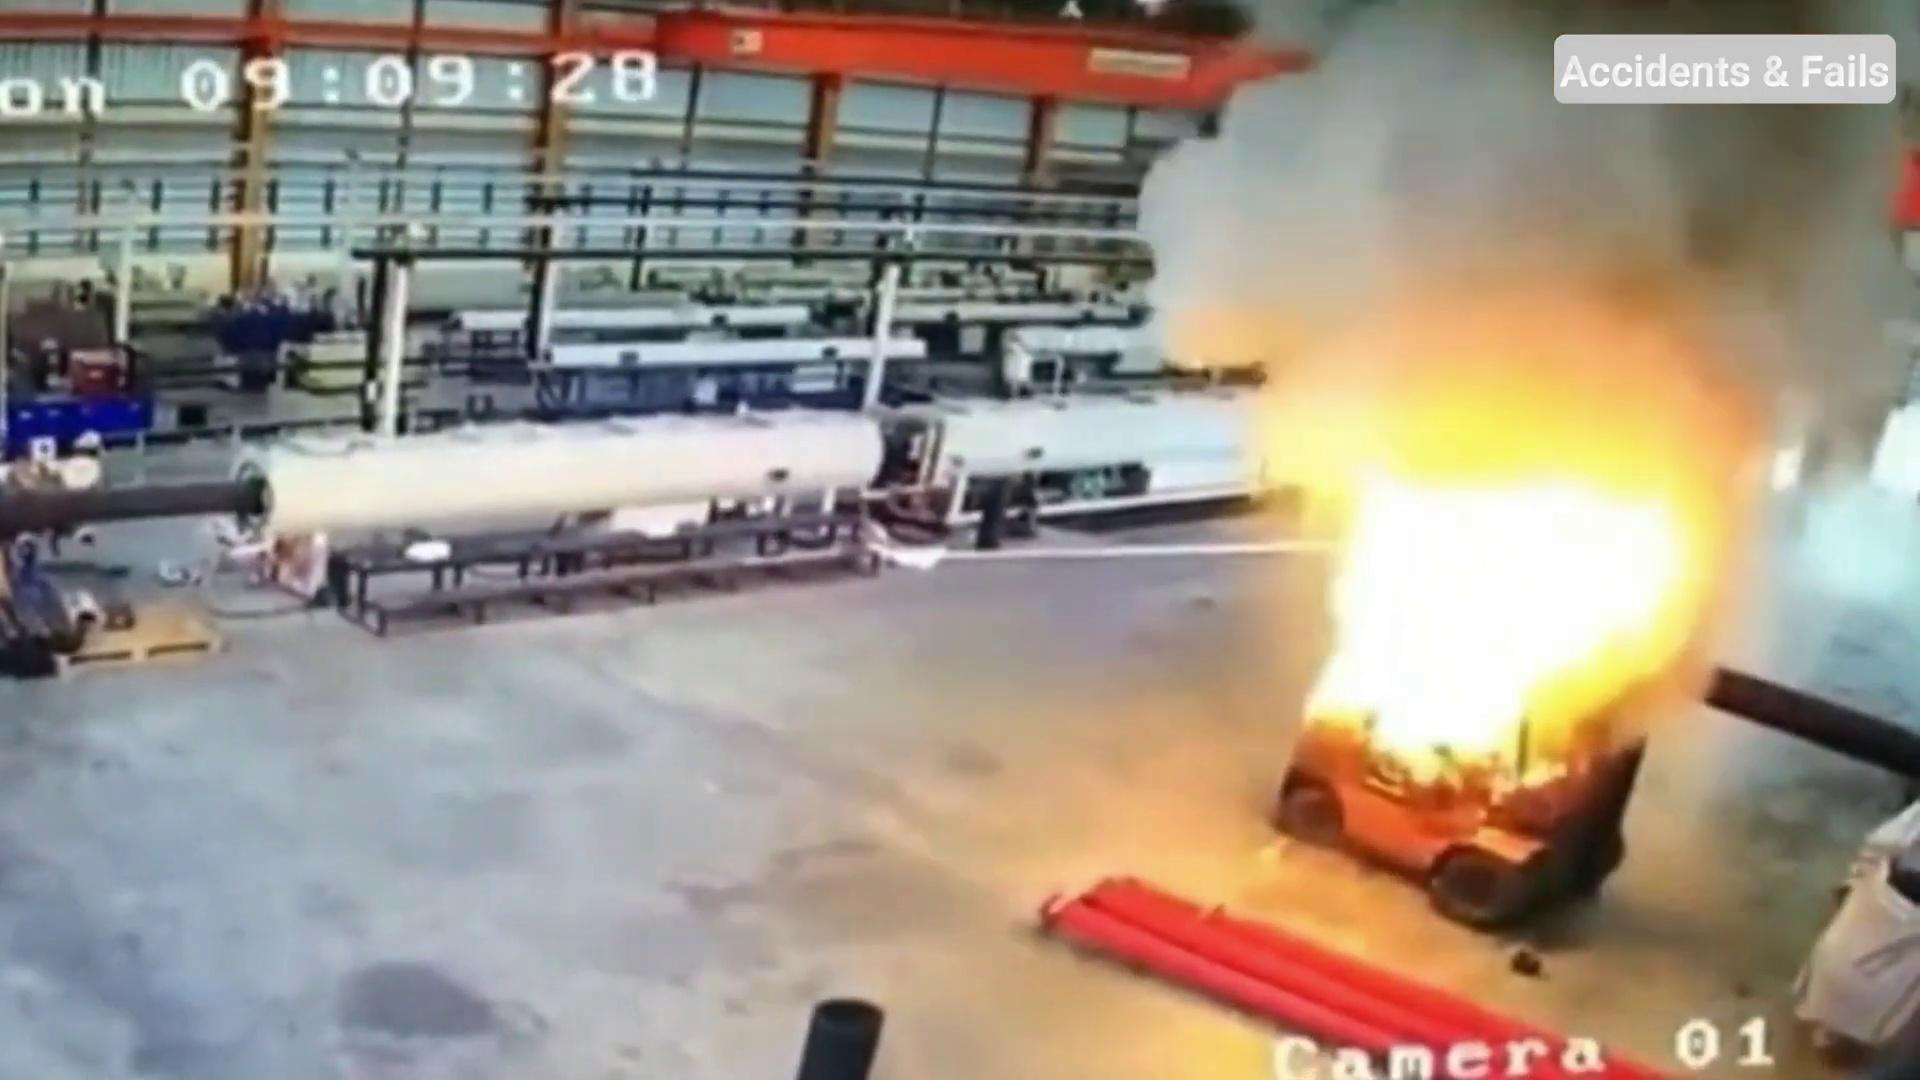fire: (1127, 103, 1920, 861)
